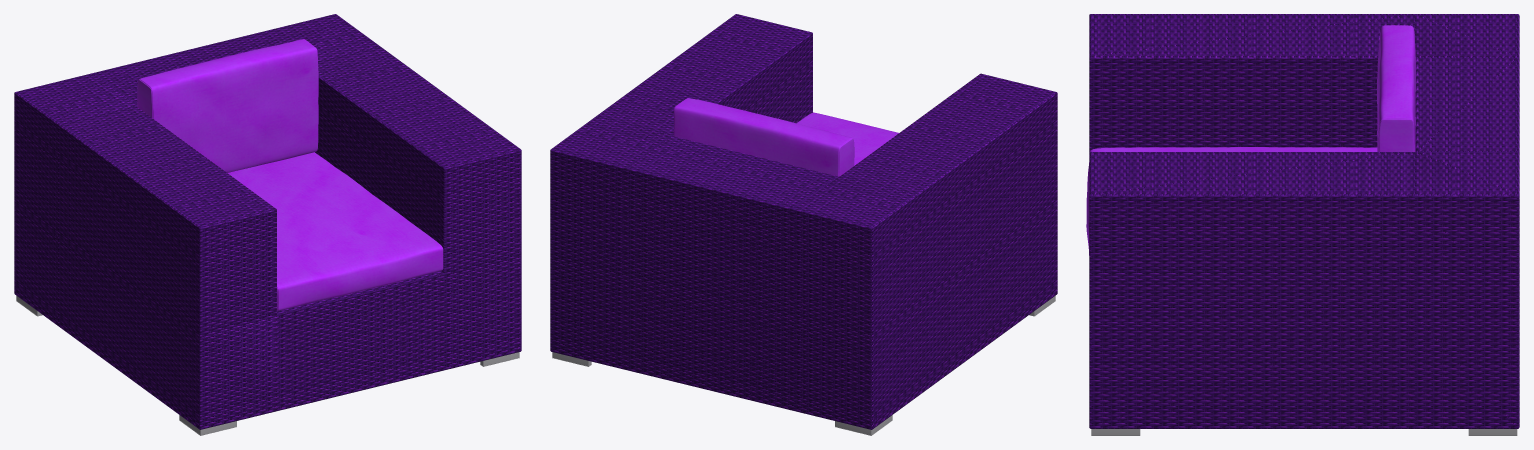
The picture shows the model from 3 angles, left to right: view 1: azimuth 30°, elevation 25°; view 2: azimuth 150°, elevation 25°; view 3: azimuth 270°, elevation 25°; orthographic projection. The views are drawn at different scales.
Bounding box in the file's own units: 1.06 × 0.75 × 1.06.
Materials: 3 (3 with a texture image).
